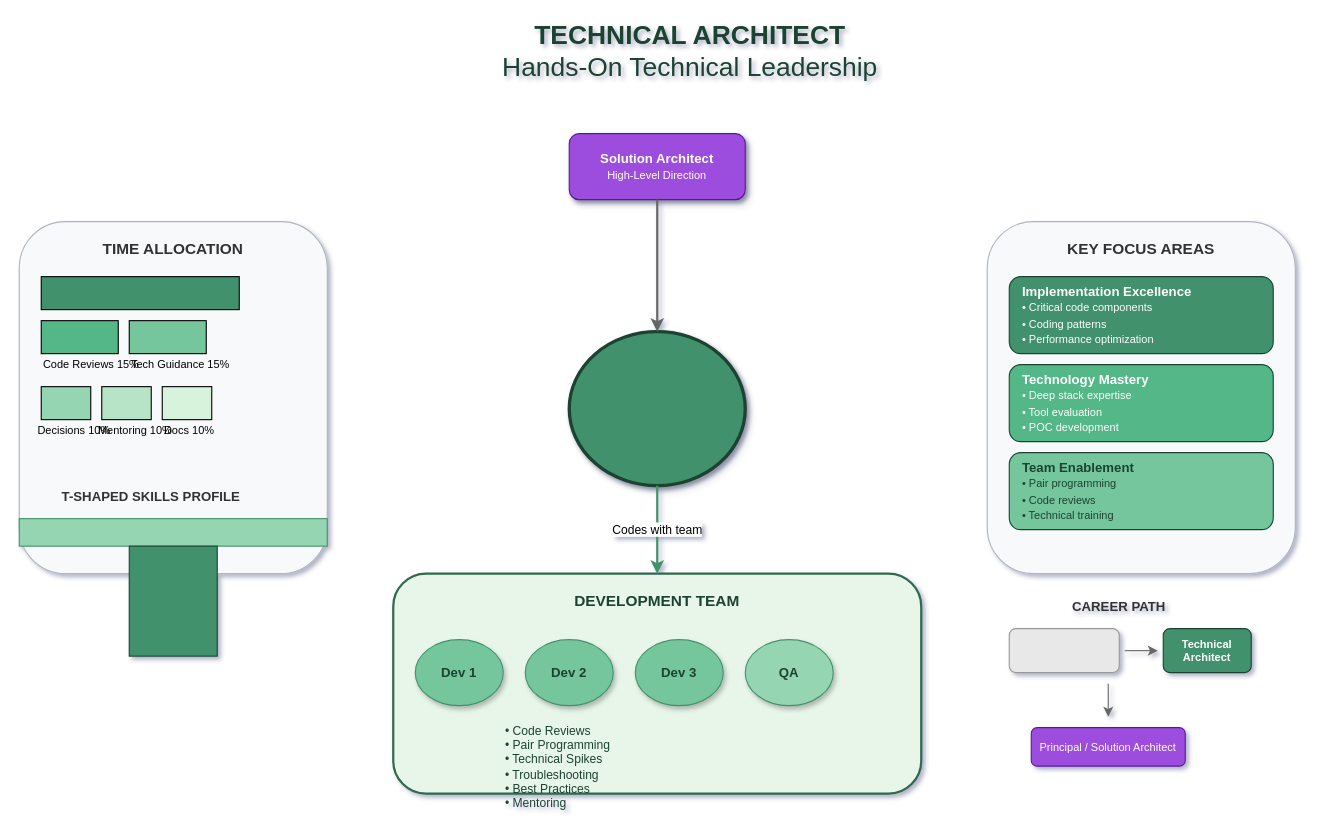
Image size: 1321x836. Some labels were removed from this diagram. The centre of each missing label's shape, as x and y in pixels:
Breadth: Cloud | DevOps | Security | Data | Frontend: (x=172, y=532)
DEPTH Primary Stack (Java + Spring + PostgreSQL + Kubernetes): (x=172, y=600)
Hands-On Development 40%: (x=139, y=293)
Senior Dev / Tech Lead: (x=1063, y=650)
TECHNICAL ARCHITECT Expert Practitioner 40-50% Coding: (x=658, y=409)
